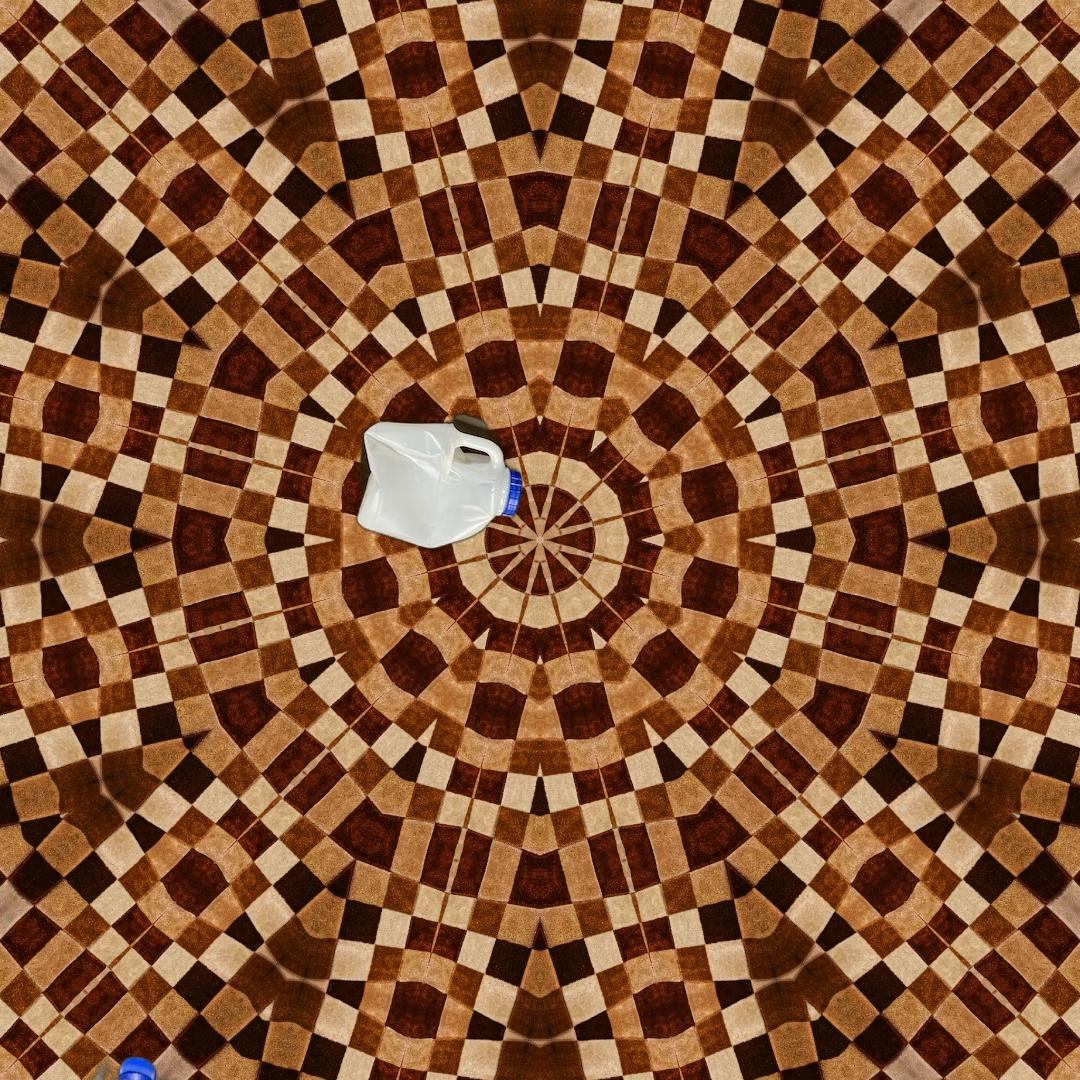plastic-bottles: (352, 407, 527, 555), (28, 999, 223, 1080)
